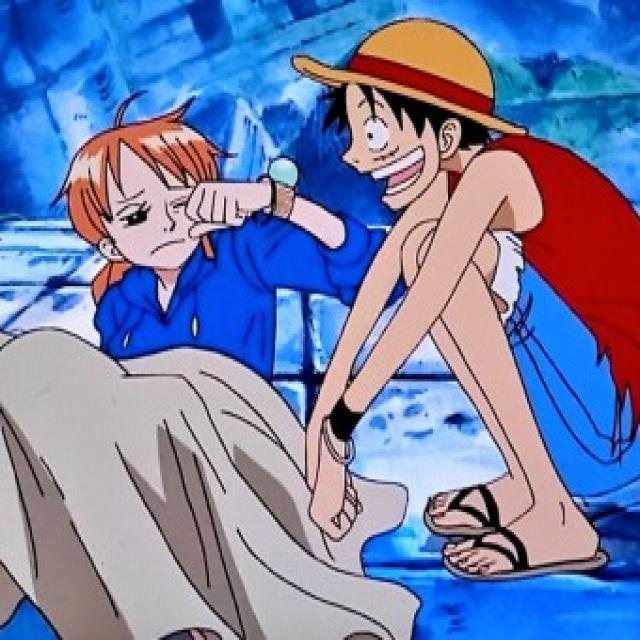Luffy: (294, 4, 523, 222)
Nami: (54, 89, 260, 313)
